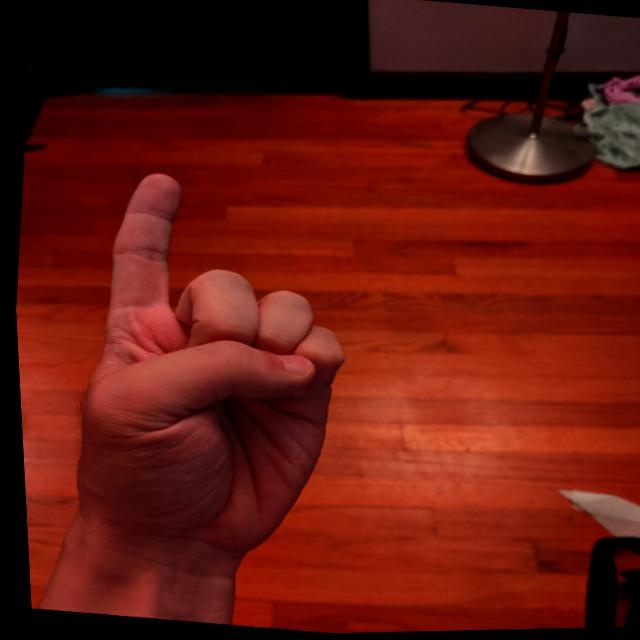D: (42, 156, 377, 578)
